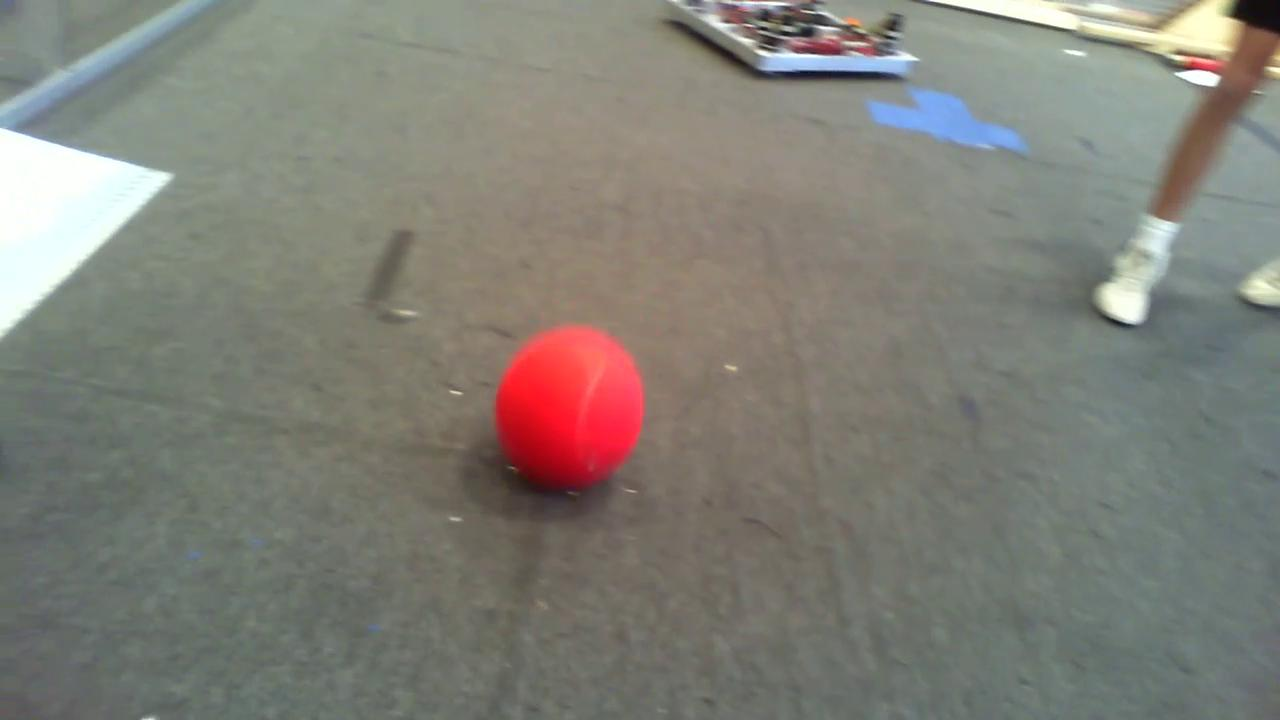Red_Ball: (446, 311, 676, 497)
